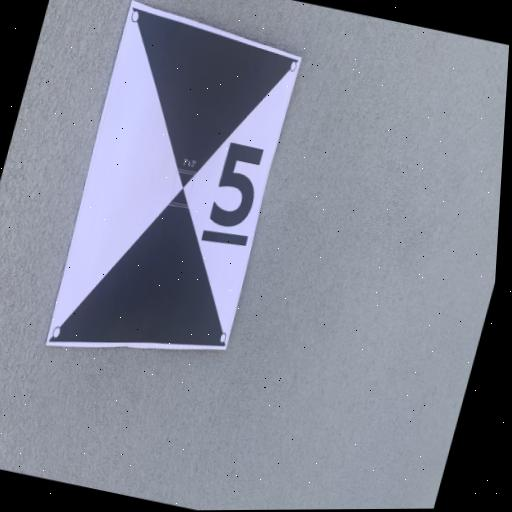target5: (46, 1, 303, 350)
